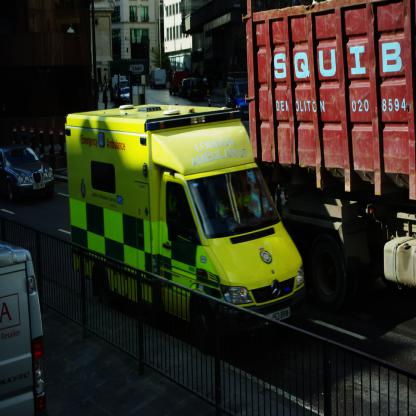Ambulance: (64, 102, 309, 360)
